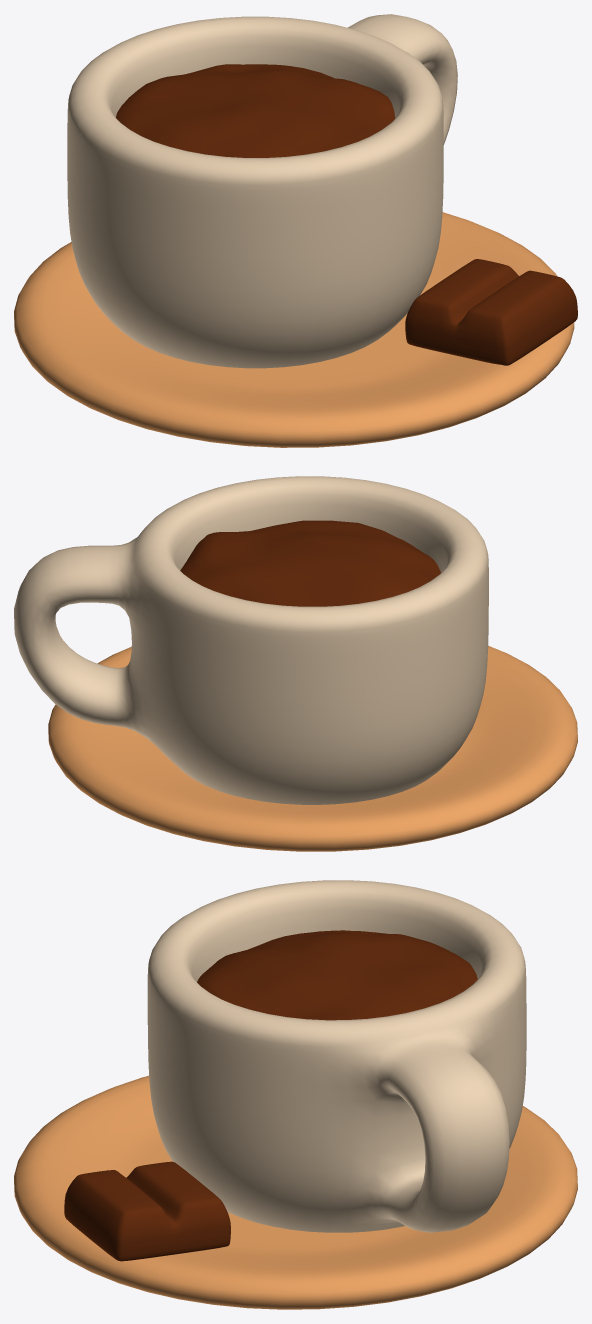
File: latte.glb
The picture shows the model from 3 angles, top to bottom: view 1: azimuth 30°, elevation 25°; view 2: azimuth 150°, elevation 25°; view 3: azimuth 270°, elevation 25°; orthographic projection. The views are drawn at different scales.
Parts seen in each view (by area): view 1: Cup, Plate, Water, Chocolate Bar; view 2: Cup, Plate, Water; view 3: Cup, Plate, Water, Chocolate Bar.
Boxes of the visible parts, x1,y1,x2,y2 form: Cup: [67, 14, 457, 368]; Plate: [14, 212, 574, 447]; Water: [116, 64, 395, 157]; Chocolate Bar: [405, 259, 577, 365]; Cup: [14, 476, 488, 804]; Plate: [48, 646, 577, 851]; Water: [180, 520, 440, 606]; Cup: [147, 880, 526, 1232]; Plate: [14, 1075, 577, 1309]; Water: [197, 930, 477, 1020]; Chocolate Bar: [64, 1161, 230, 1261].
Size of the model in its own units: 2.16 by 1.13 by 2.16.
